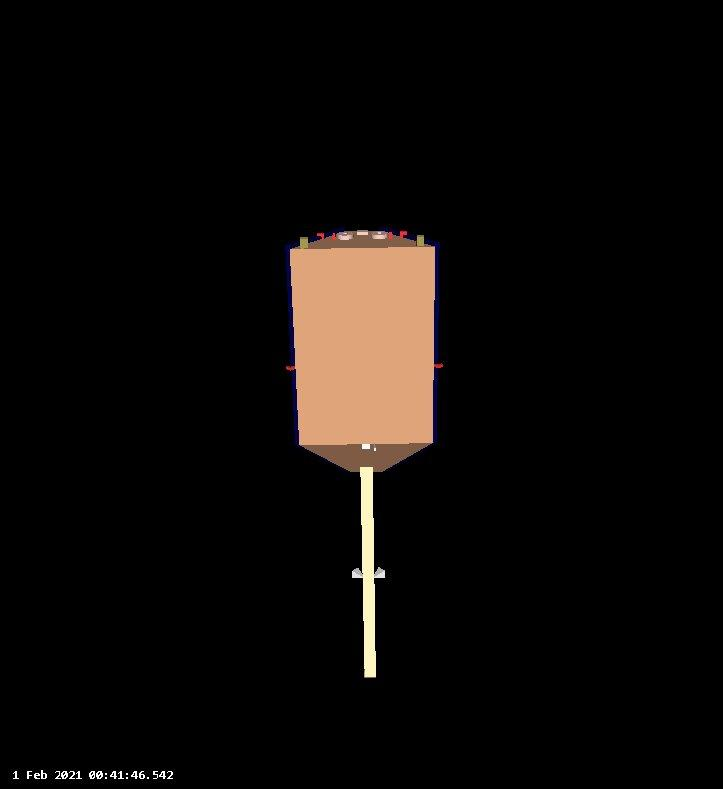antenna: (349, 467, 388, 679)
body: (288, 228, 437, 474)
